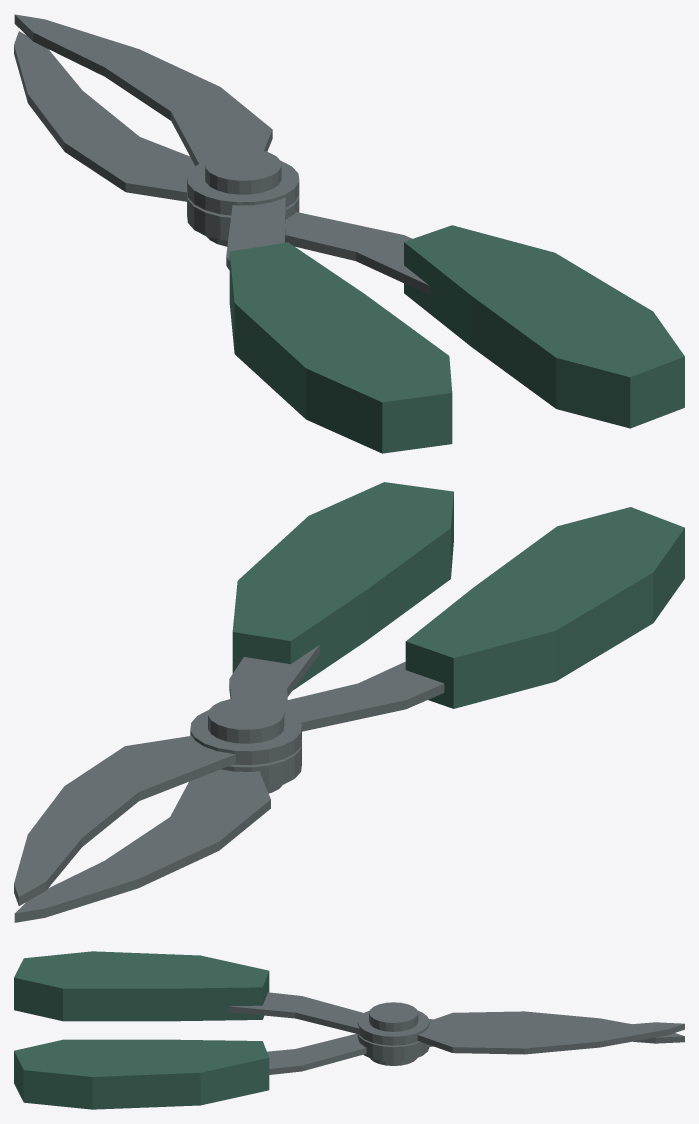
The picture shows the model from 3 angles, top to bottom: view 1: azimuth 30°, elevation 25°; view 2: azimuth 150°, elevation 25°; view 3: azimuth 270°, elevation 25°; orthographic projection. The views are drawn at different scales.
Visible parts, largest first — view 1: Fixed lower grip pad, Upper grip pad, Upper curved bypass blade, Fixed curved lower bypass blade, Fixed lower handle tang, Fixed pivot upper retaining head, Upper bored hub, Upper handle tang, Fixed lower bored hub; view 2: Upper grip pad, Fixed lower grip pad, Fixed curved lower bypass blade, Upper curved bypass blade, Upper handle tang, Fixed pivot upper retaining head, Fixed lower handle tang, Upper bored hub, Fixed lower bored hub; view 3: Fixed lower grip pad, Upper grip pad, Upper curved bypass blade, Fixed curved lower bypass blade, Upper handle tang, Fixed lower handle tang, Fixed pivot upper retaining head, Upper bored hub, Fixed lower bored hub.
Part boxes in pixels (<box>): Fixed lower grip pad: <box>404,225,684,428</box>; Upper grip pad: <box>229,242,452,453</box>; Upper curved bypass blade: <box>14,14,272,165</box>; Fixed curved lower bypass blade: <box>14,31,194,201</box>; Fixed lower handle tang: <box>285,212,429,294</box>; Fixed pivot upper retaining head: <box>205,148,281,194</box>; Upper bored hub: <box>187,161,299,215</box>; Upper handle tang: <box>226,197,285,270</box>; Fixed lower bored hub: <box>187,192,299,240</box>; Upper grip pad: <box>405,507,684,708</box>; Fixed lower grip pad: <box>232,482,453,690</box>; Fixed curved lower bypass blade: <box>14,769,270,922</box>; Upper curved bypass blade: <box>14,735,235,905</box>; Upper handle tang: <box>275,661,444,731</box>; Fixed pivot upper retaining head: <box>208,697,284,743</box>; Fixed lower handle tang: <box>229,645,319,702</box>; Upper bored hub: <box>190,710,301,764</box>; Fixed lower bored hub: <box>221,741,301,788</box>; Fixed lower grip pad: <box>14,1039,269,1109</box>; Upper grip pad: <box>14,951,269,1021</box>; Upper curved bypass blade: <box>417,1019,684,1054</box>; Fixed curved lower bypass blade: <box>425,1011,684,1047</box>; Upper handle tang: <box>227,992,363,1034</box>; Fixed lower handle tang: <box>267,1033,366,1074</box>; Fixed pivot upper retaining head: <box>369,1002,418,1031</box>; Upper bored hub: <box>357,1010,429,1045</box>; Fixed lower bored hub: <box>357,1034,429,1061</box>.
Size of the model in its own units: 0.078 by 0.017 by 0.205.
